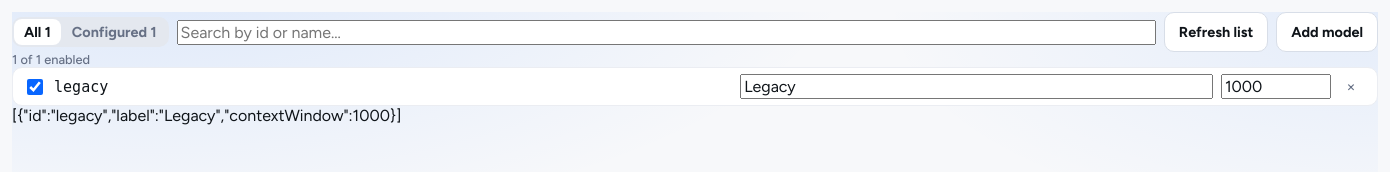
Test: BuiltinModelsEditor › removing a stored row drops it from settings entirely
Click the button named "Remove from list: legacy" at [1351, 86], box [1339, 74, 1363, 98]
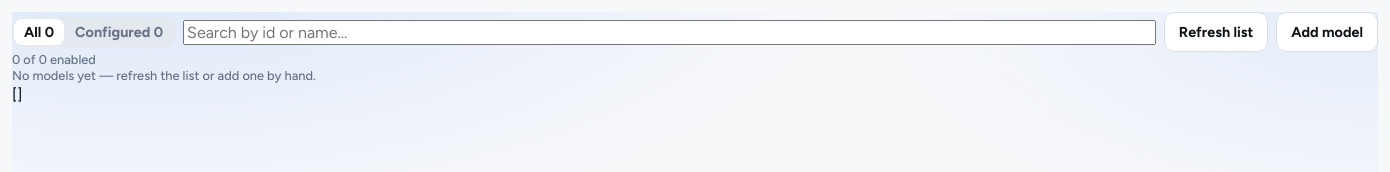
Expected: the text "legacy" is gone
Expected: the text "No models yet — refresh the list or add one by hand." is shown, [12, 68, 316, 83]
